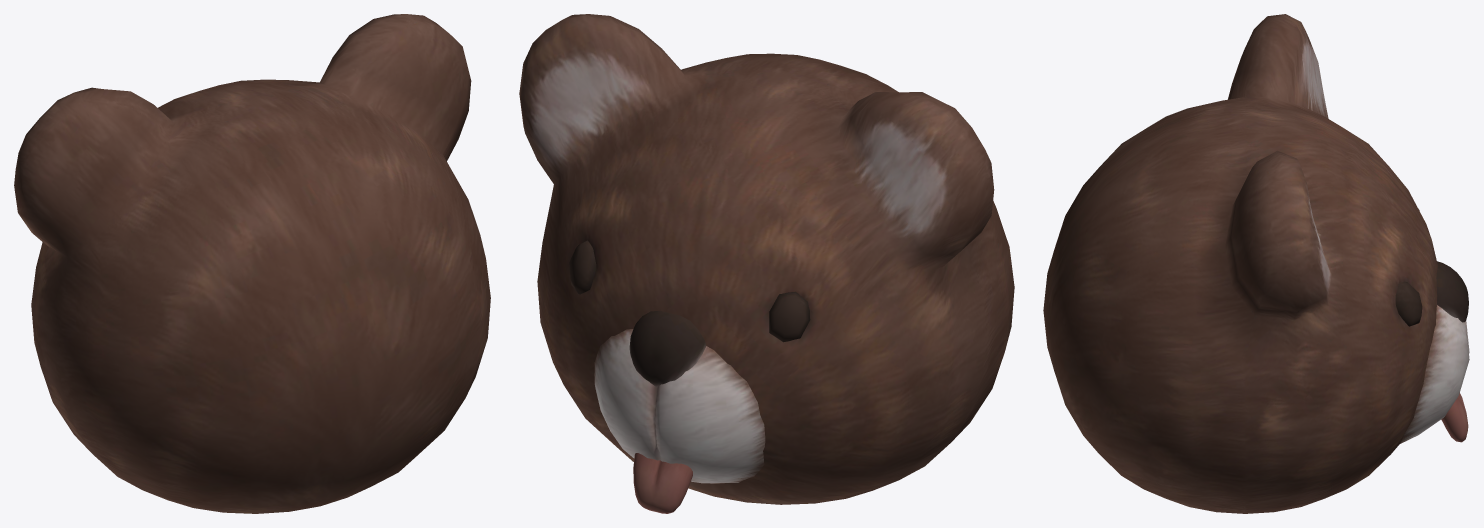
The model's file is avatar3-head.glb.
3 views of the same model, side by side, from view 1: azimuth 30°, elevation 25°; view 2: azimuth 150°, elevation 25°; view 3: azimuth 270°, elevation 25° (orthographic). The views are drawn at different scales.
Parts seen in each view (by area): view 1: head; view 2: head; view 3: head.
Boxes of the visible parts, x1,y1,x2,y2 form: head: [14, 14, 490, 513]; head: [519, 14, 1014, 513]; head: [1043, 14, 1469, 513].
Bounding box in the file's own units: 0.4036 × 0.3609 × 0.3528.
Materials: 1 (1 with a texture image).
